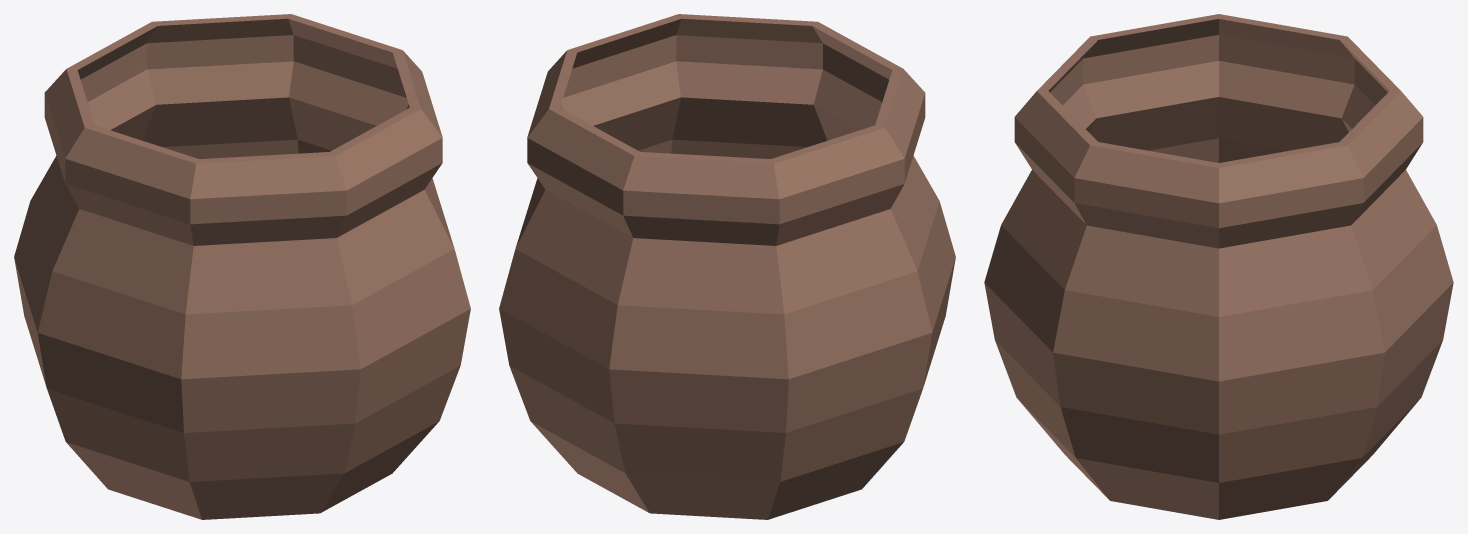
Rendered from Jugs_1.fbx.
3 renders of one model, left to right at view 1: azimuth 30°, elevation 25°; view 2: azimuth 150°, elevation 25°; view 3: azimuth 270°, elevation 25°, orthographic.
Parts seen in each view (by area): view 1: Cylinder; view 2: Cylinder; view 3: Cylinder.
Part boxes in pixels (box(x1,y1,x2,y2)): Cylinder: box(14, 14, 470, 519); Cylinder: box(499, 14, 955, 519); Cylinder: box(984, 14, 1453, 519).
Size of the model in its own units: 63.81 by 54.69 by 63.81.
